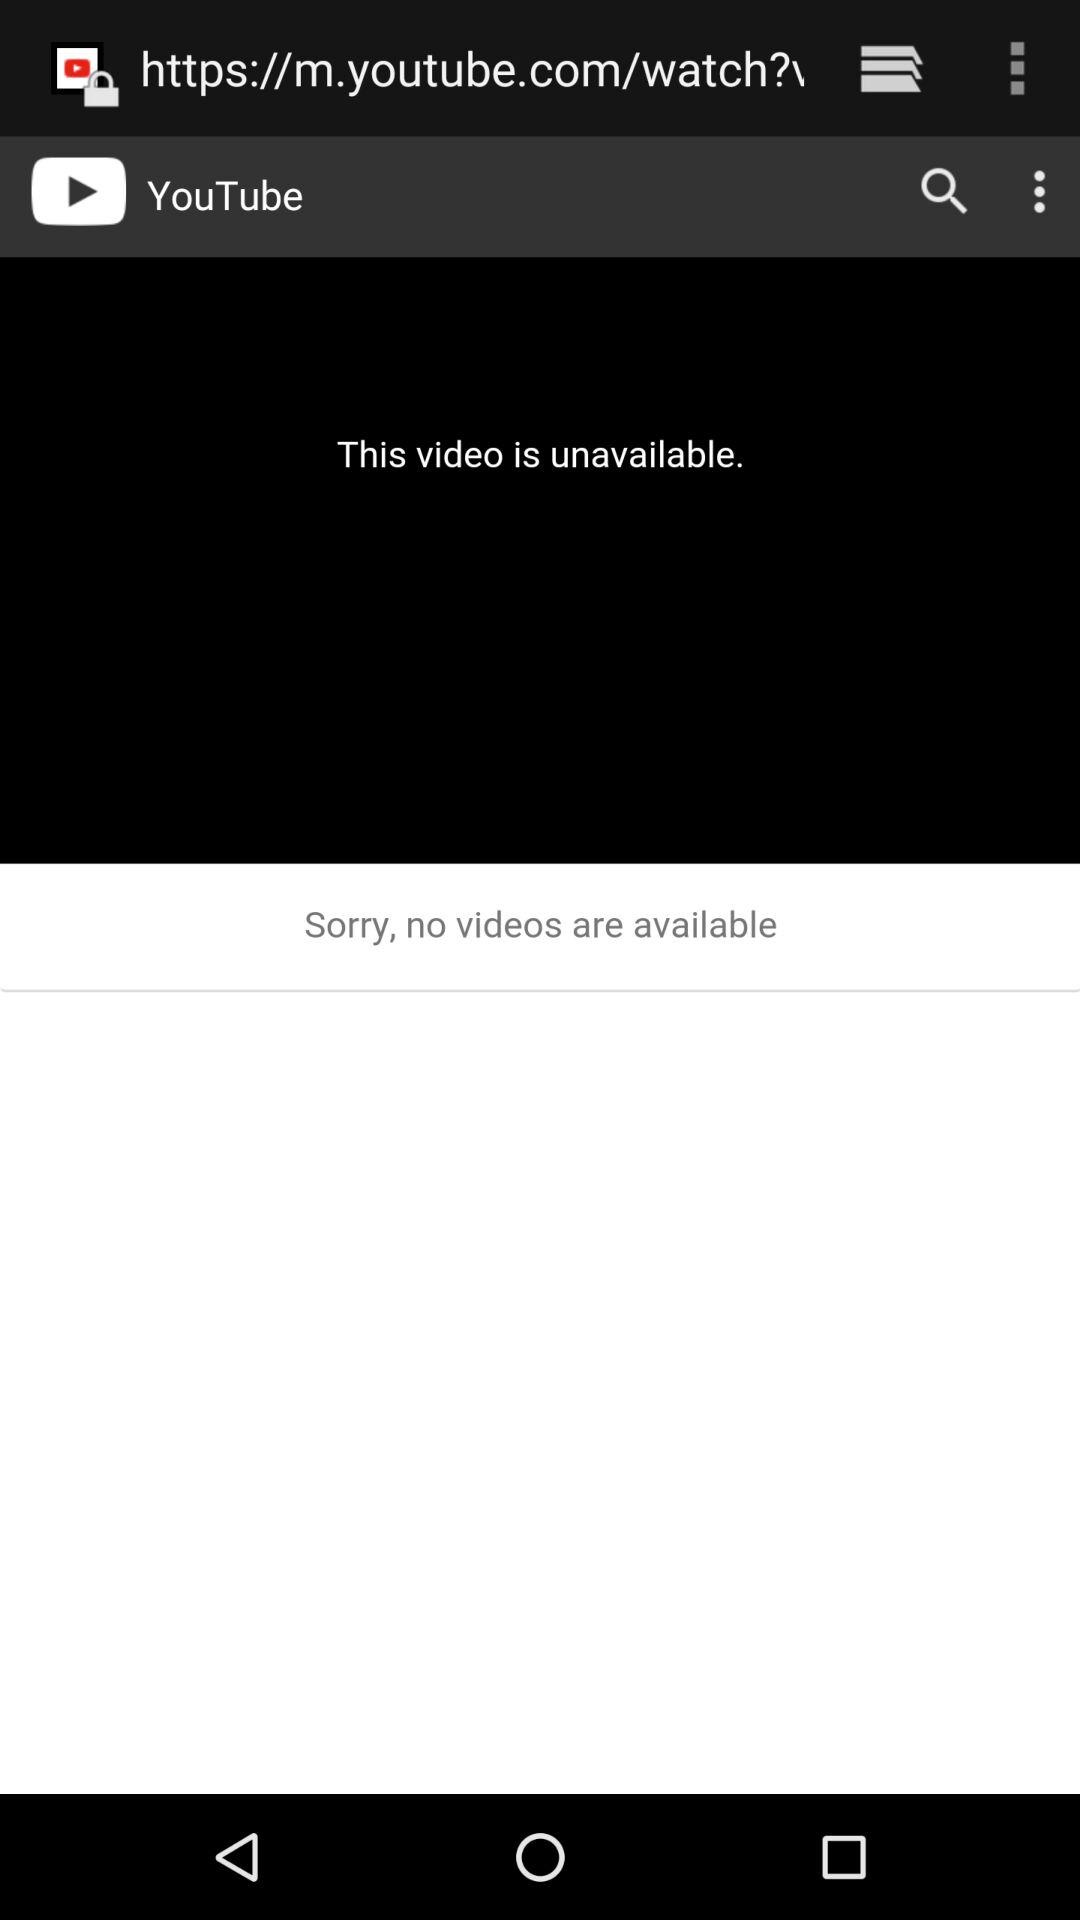SpecialButton: (828, 5, 953, 136), (953, 5, 1075, 136)
